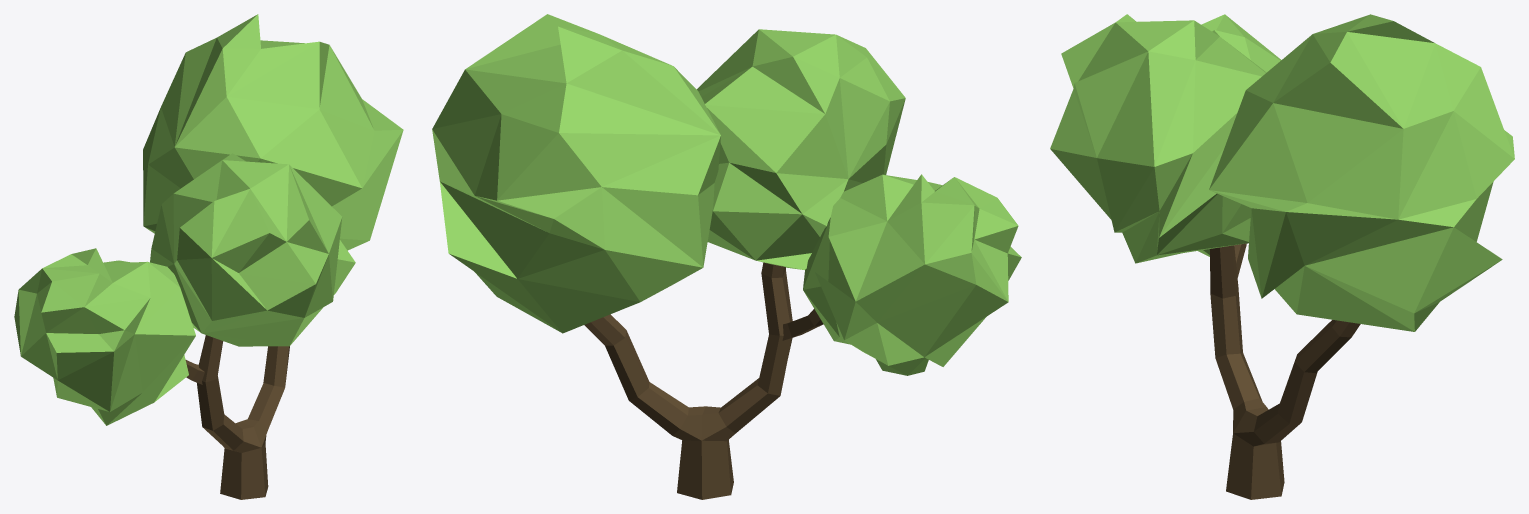
The model's file is Tree4.fbx.
3 renders of one model, left to right at view 1: azimuth 30°, elevation 25°; view 2: azimuth 150°, elevation 25°; view 3: azimuth 270°, elevation 25°, orthographic. The views are drawn at different scales.
Parts seen in each view (by area): view 1: Big1, small2, small1, Trunk; view 2: Big1, small2, small1, Trunk, Trunk2; view 3: Big1, small2, Trunk, small1.
Boxes of the visible parts, x1,y1,x2,y2 form: Big1: [143, 14, 403, 250]; small2: [150, 153, 355, 346]; small1: [14, 248, 195, 425]; Trunk: [197, 335, 289, 499]; Big1: [432, 14, 720, 333]; small2: [697, 29, 905, 269]; small1: [803, 174, 1021, 375]; Trunk: [584, 262, 792, 499]; Trunk2: [782, 309, 823, 340]; Big1: [1209, 14, 1514, 331]; small2: [1050, 14, 1266, 263]; Trunk: [1210, 245, 1360, 499]; small1: [1198, 14, 1281, 256].
Bounding box in the file's own units: 27.94 × 26.82 × 22.24.
